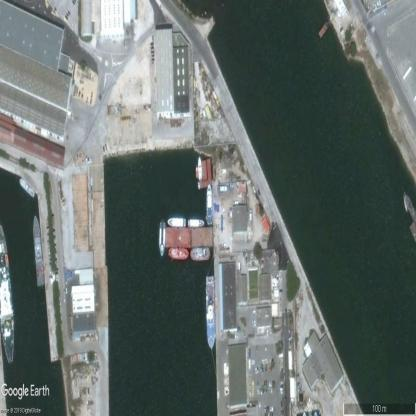ship: (0, 224, 14, 366), (205, 275, 215, 348), (34, 215, 44, 288), (206, 183, 213, 227), (20, 179, 35, 197), (191, 247, 210, 260), (168, 247, 188, 259), (159, 219, 165, 257), (168, 217, 186, 227), (188, 219, 204, 226), (198, 156, 202, 181)
